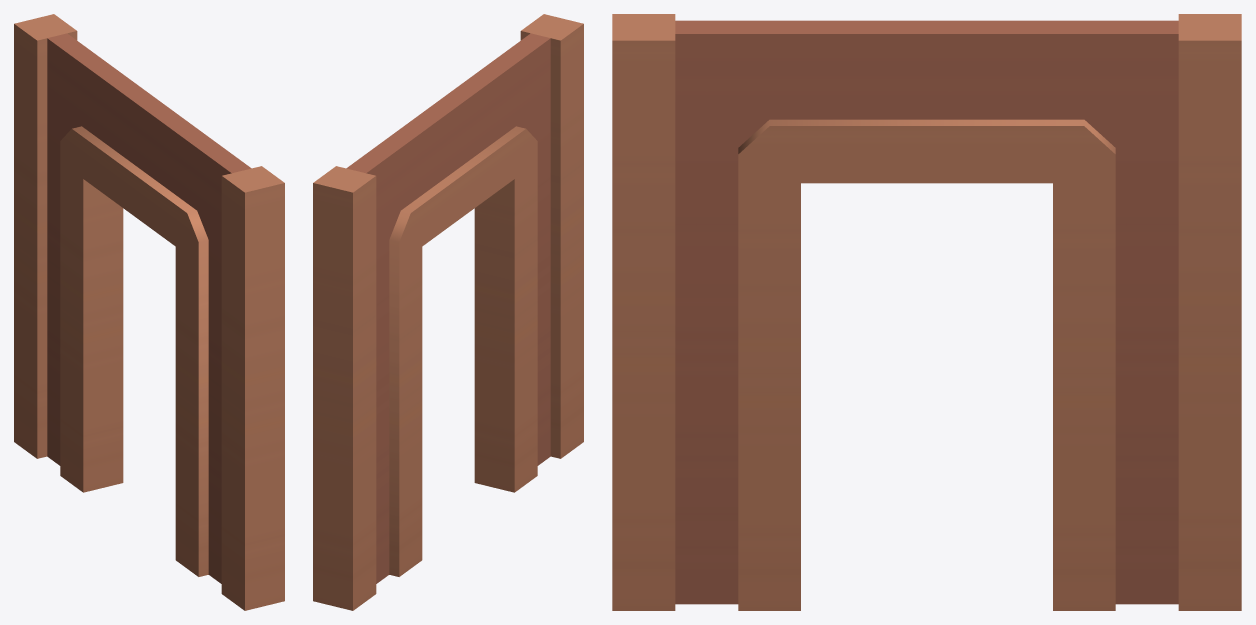
The model's file is wall-wood-doorway-square.fbx.
3 views of the same model, side by side, from view 1: azimuth 30°, elevation 25°; view 2: azimuth 150°, elevation 25°; view 3: azimuth 270°, elevation 25° (orthographic). The views are drawn at different scales.
Visible parts, largest first — view 1: wall-wood-doorway-square; view 2: wall-wood-doorway-square; view 3: wall-wood-doorway-square.
Part boxes in pixels (x1,y1,x2,y2): wall-wood-doorway-square: (14,14,284,610); wall-wood-doorway-square: (313,14,583,610); wall-wood-doorway-square: (612,14,1241,610).
Bounding box in the file's own units: 10 × 100 × 100.
Materials: 1 (1 with a texture image).
